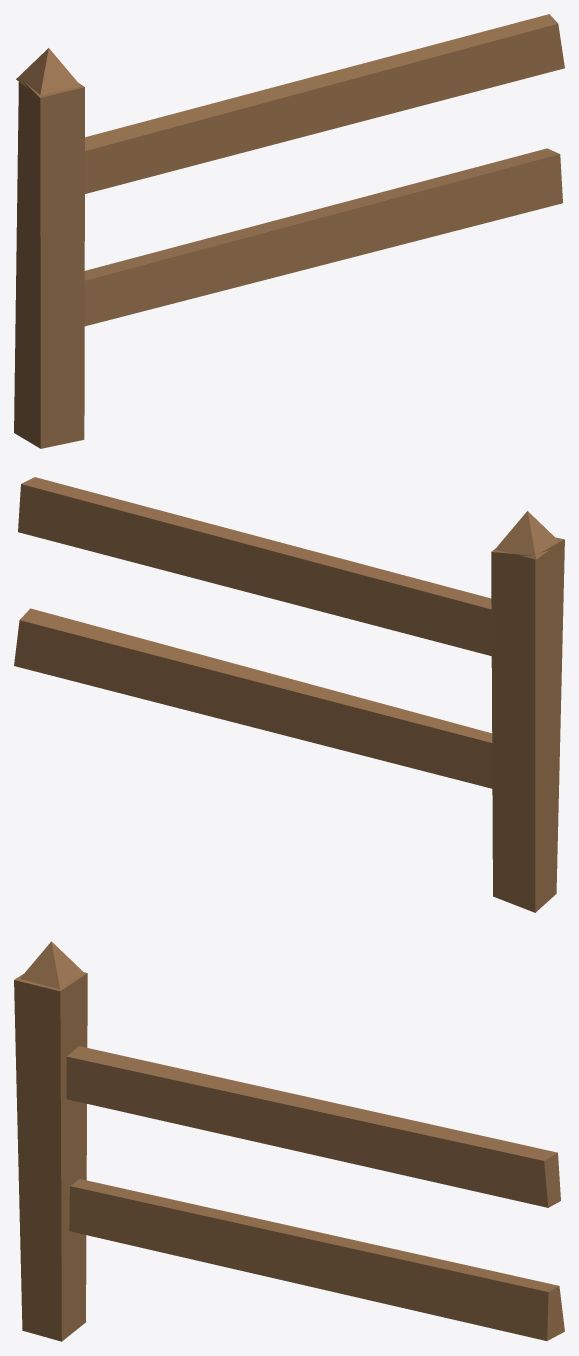
File: fence.glb
3 views of the same model, one above another, from view 1: azimuth 30°, elevation 25°; view 2: azimuth 150°, elevation 25°; view 3: azimuth 330°, elevation 25° (orthographic).
Parts seen in each view (by area): view 1: fence; view 2: fence; view 3: fence.
Part boxes in pixels (x1,y1,x2,y2): fence: [14, 14, 564, 448]; fence: [14, 477, 564, 912]; fence: [14, 941, 564, 1341].
Size of the model in its own units: 1.26 by 0.8825 by 0.1169.
